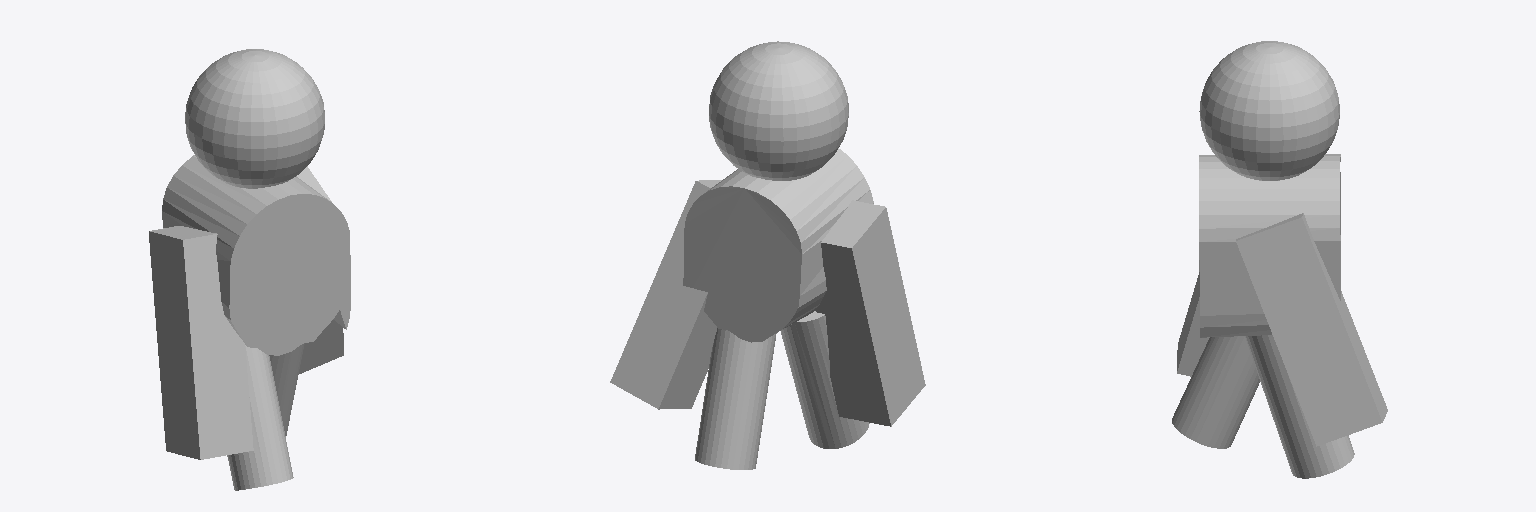
The model's file is Figurine74.obj.
3 views of the same model, side by side, from view 1: azimuth 30°, elevation 25°; view 2: azimuth 150°, elevation 25°; view 3: azimuth 270°, elevation 25° (orthographic).
Parts seen in each view (by area): view 1: Cylinder; view 2: Cylinder; view 3: Cylinder.
Part boxes in pixels (x1,y1,x2,y2): Cylinder: (149, 49, 350, 490); Cylinder: (610, 41, 925, 469); Cylinder: (1172, 41, 1387, 478).
Size of the model in its own units: 3.49 by 6.45 by 3.07.